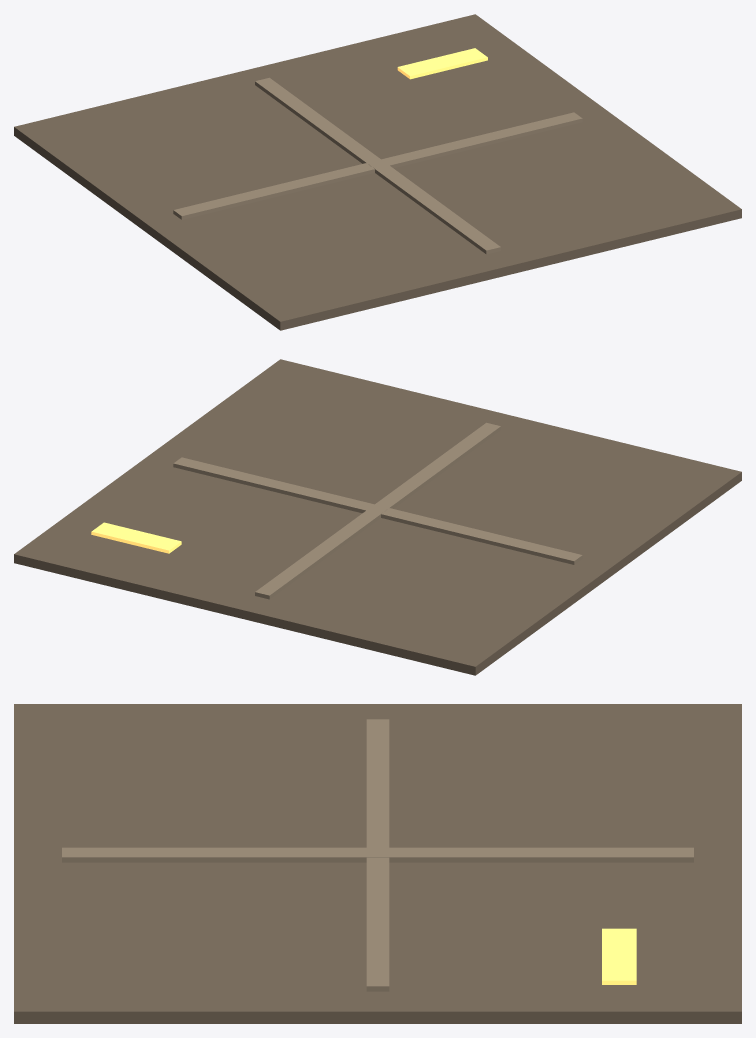
File: refinery-floor-service-grate-lod2.glb
The picture shows the model from 3 angles, top to bottom: view 1: azimuth 30°, elevation 25°; view 2: azimuth 150°, elevation 25°; view 3: azimuth 270°, elevation 25°; orthographic projection. The views are drawn at different scales.
Parts seen in each view (by area): view 1: refinery-floor-service-grate, refinery-floor-service-grate-frame-x, refinery-floor-service-grate-frame-z, refinery-floor-service-grate-hazard; view 2: refinery-floor-service-grate, refinery-floor-service-grate-frame-x, refinery-floor-service-grate-frame-z, refinery-floor-service-grate-hazard; view 3: refinery-floor-service-grate, refinery-floor-service-grate-frame-z, refinery-floor-service-grate-frame-x, refinery-floor-service-grate-hazard.
Boxes of the visible parts, x1,y1,x2,y2 form: refinery-floor-service-grate: (14,14,741,330); refinery-floor-service-grate-frame-x: (173,112,582,219); refinery-floor-service-grate-frame-z: (255,77,500,254); refinery-floor-service-grate-hazard: (397,48,487,79); refinery-floor-service-grate: (14,359,741,675); refinery-floor-service-grate-frame-x: (173,457,582,564); refinery-floor-service-grate-frame-z: (255,422,500,599); refinery-floor-service-grate-hazard: (91,522,181,553); refinery-floor-service-grate: (14,704,741,1023); refinery-floor-service-grate-frame-z: (62,847,693,862); refinery-floor-service-grate-frame-x: (366,719,389,991); refinery-floor-service-grate-hazard: (602,928,636,984).
Size of the model in its own units: 3.8 by 0.1005 by 3.8.
